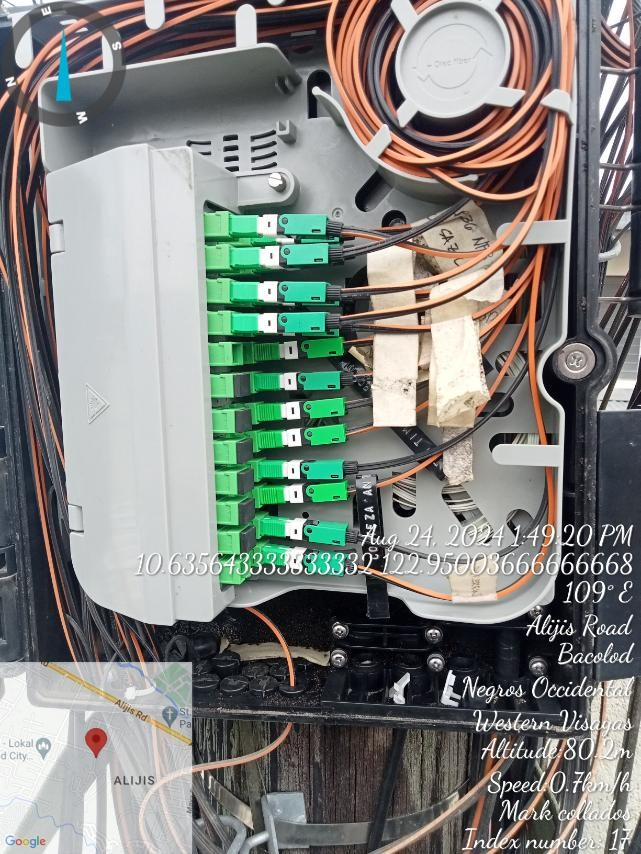no dust cap: (240, 552, 252, 584), (230, 343, 243, 365)
occupied: (230, 239, 347, 275), (262, 544, 364, 580), (254, 243, 362, 276), (231, 278, 346, 306), (262, 514, 359, 547), (234, 311, 347, 338), (228, 213, 346, 238), (258, 422, 352, 451), (257, 395, 350, 424), (252, 220, 358, 245), (253, 283, 357, 307), (259, 481, 353, 507), (255, 336, 345, 363), (257, 369, 358, 391), (259, 459, 357, 480), (254, 316, 356, 336)
vacant: (240, 497, 256, 527), (241, 526, 256, 555), (240, 468, 255, 496), (239, 438, 254, 464), (236, 410, 251, 434), (235, 374, 250, 398)
